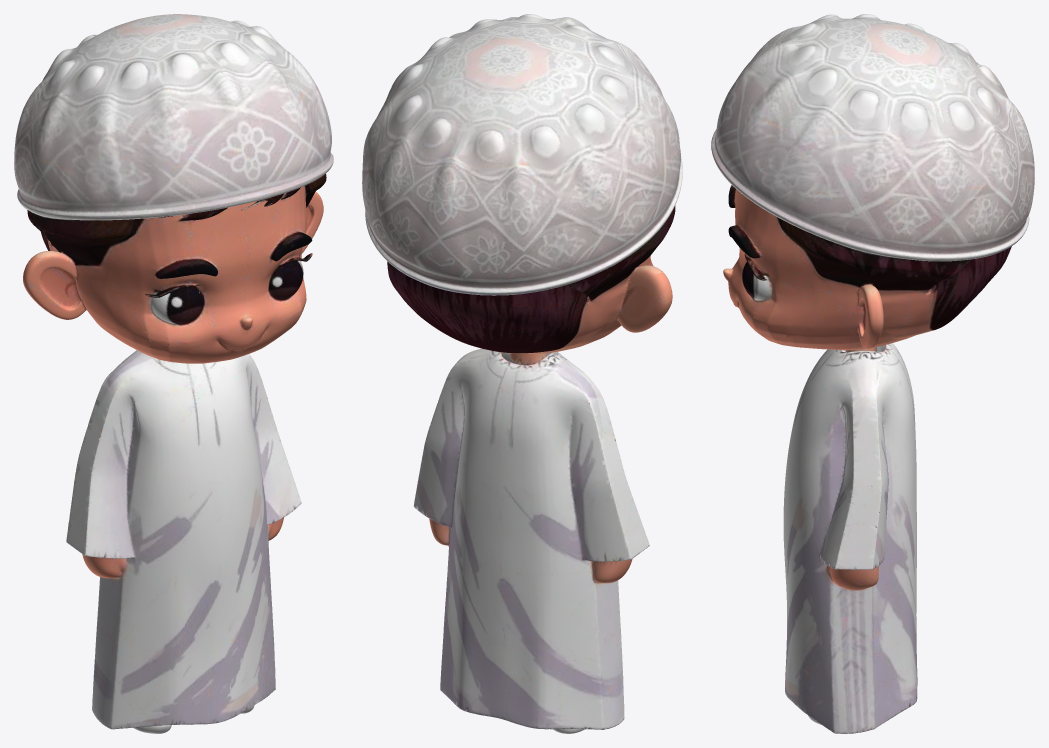
The model's file is hamed-plain.glb.
3 views of the same model, side by side, from view 1: azimuth 30°, elevation 25°; view 2: azimuth 150°, elevation 25°; view 3: azimuth 270°, elevation 25° (orthographic).
Size of the model in its own units: 0.8737 by 1.9 by 0.8343.
1 material, 1 textured.
